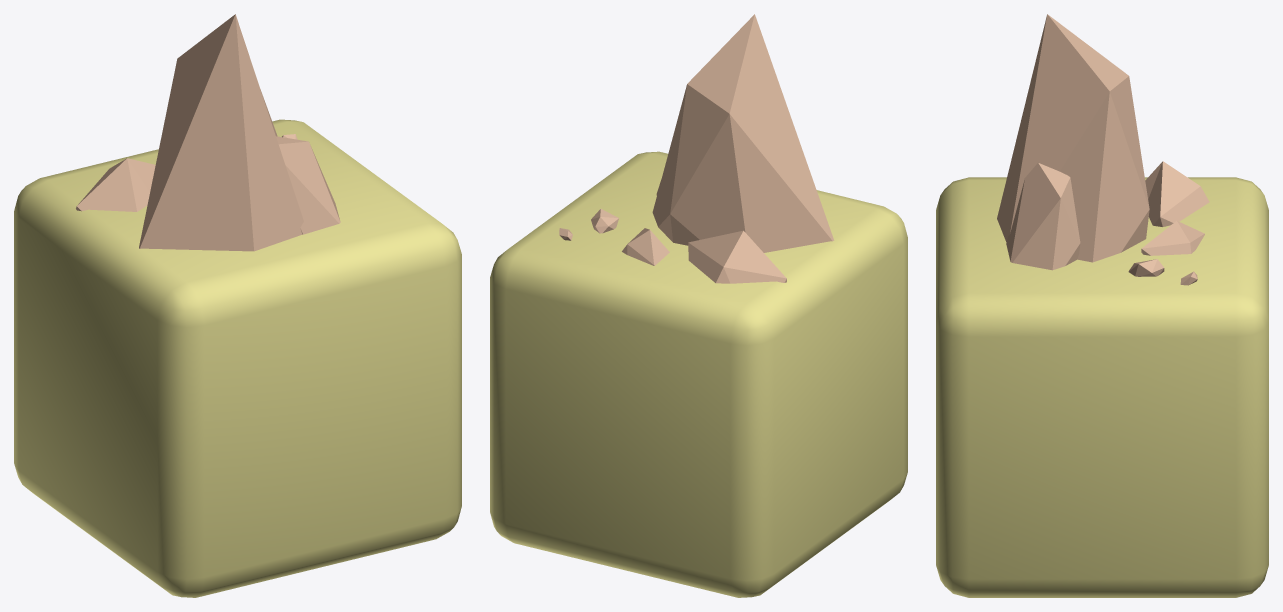
The model's file is mountain1.fbx.
3 views of the same model, side by side, from view 1: azimuth 30°, elevation 25°; view 2: azimuth 150°, elevation 25°; view 3: azimuth 270°, elevation 25° (orthographic). The views are drawn at different scales.
Parts seen in each view (by area): view 1: Cube.020, Icosphere.002, Icosphere.004, Icosphere.003; view 2: Cube.020, Icosphere.002, Icosphere.003, Icosphere.005; view 3: Cube.020, Icosphere.002, Icosphere.004, Icosphere.003, Icosphere.005, Icosphere.006.
Boxes of the visible parts, left/top/right/bottom form: Cube.020: left=14, top=119, right=461, bottom=597; Icosphere.002: left=139, top=14, right=303, bottom=251; Icosphere.004: left=276, top=136, right=340, bottom=234; Icosphere.003: left=76, top=158, right=155, bottom=211; Cube.020: left=490, top=151, right=907, bottom=597; Icosphere.002: left=652, top=14, right=834, bottom=252; Icosphere.003: left=688, top=230, right=786, bottom=283; Icosphere.005: left=622, top=228, right=669, bottom=265; Cube.020: left=936, top=177, right=1268, bottom=597; Icosphere.002: left=997, top=14, right=1149, bottom=262; Icosphere.004: left=1006, top=163, right=1080, bottom=270; Icosphere.003: left=1145, top=161, right=1209, bottom=226; Icosphere.005: left=1141, top=221, right=1204, bottom=255; Icosphere.006: left=1128, top=259, right=1164, bottom=276.
Bounding box in the file's own units: 200 × 338 × 200.
